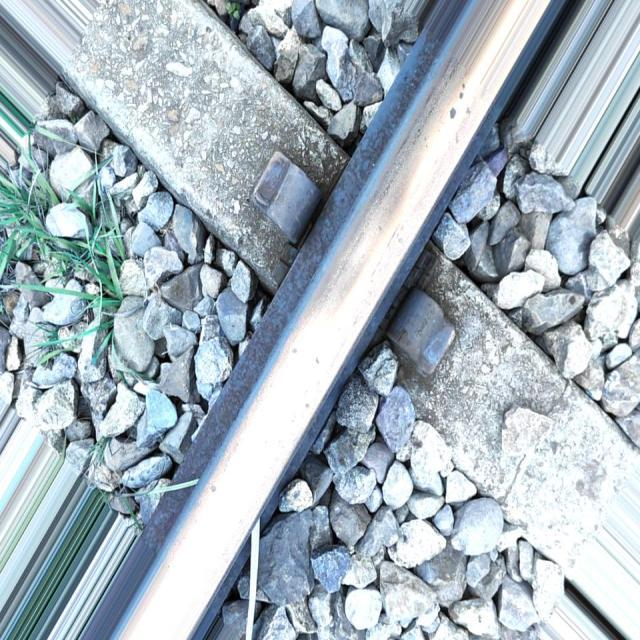Missing Fastener: (228, 127, 337, 253), (375, 287, 474, 386)
